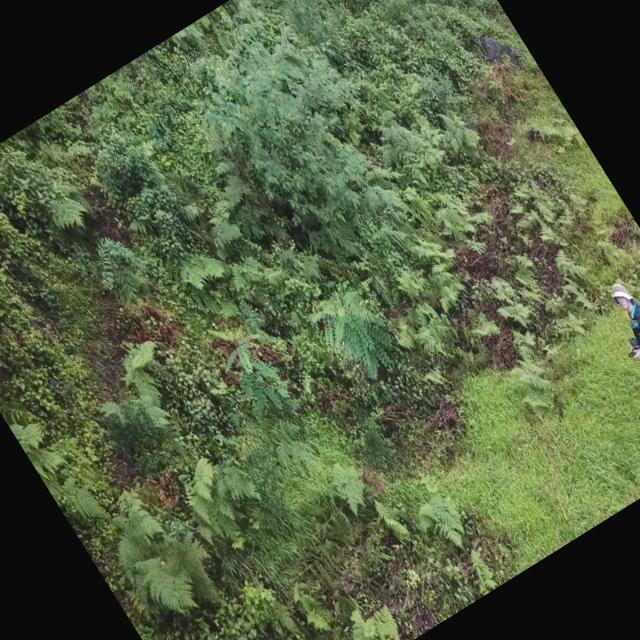Mysore-Thorn-Weed: (303, 272, 410, 393), (205, 306, 306, 431)
